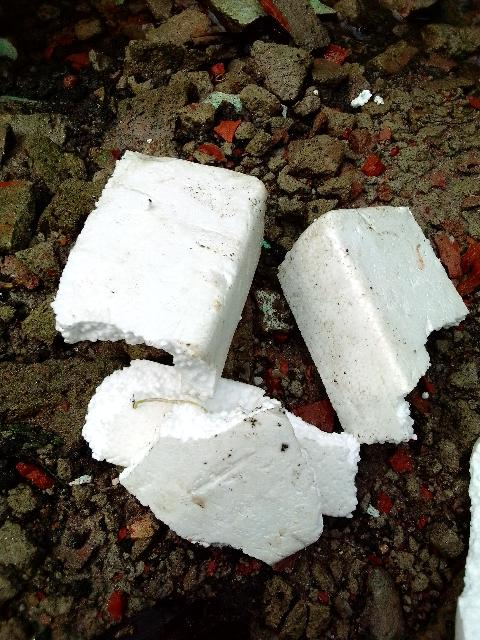cocksheet: (64, 339, 351, 578), (260, 192, 480, 451), (49, 142, 275, 375)
